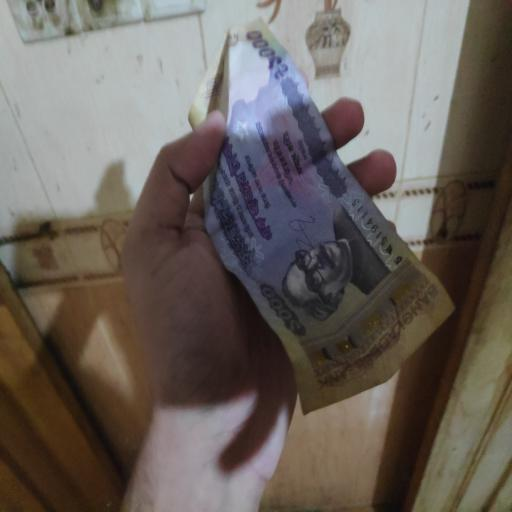1000taka: (187, 15, 454, 409)
